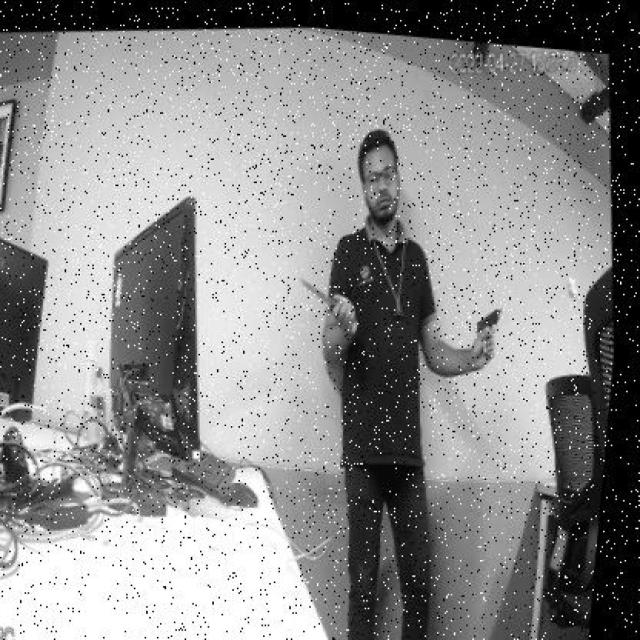weapon: (474, 306, 504, 364)
